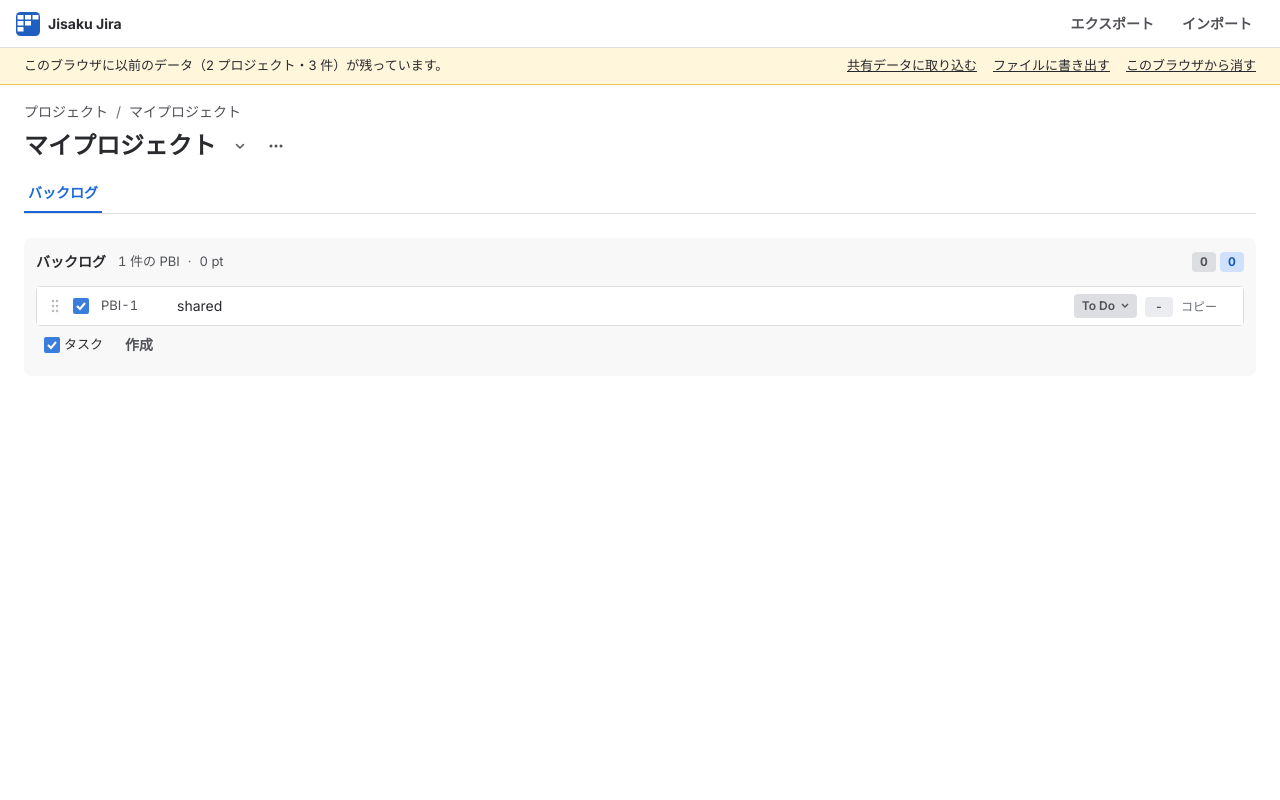
it: このブラウザに残った以前のデータ › 消すと確認後に以前のデータだけが消え、共有データは変わらない
Click the button "このブラウザから消す": (1191, 66) [1126,56,1256,76]
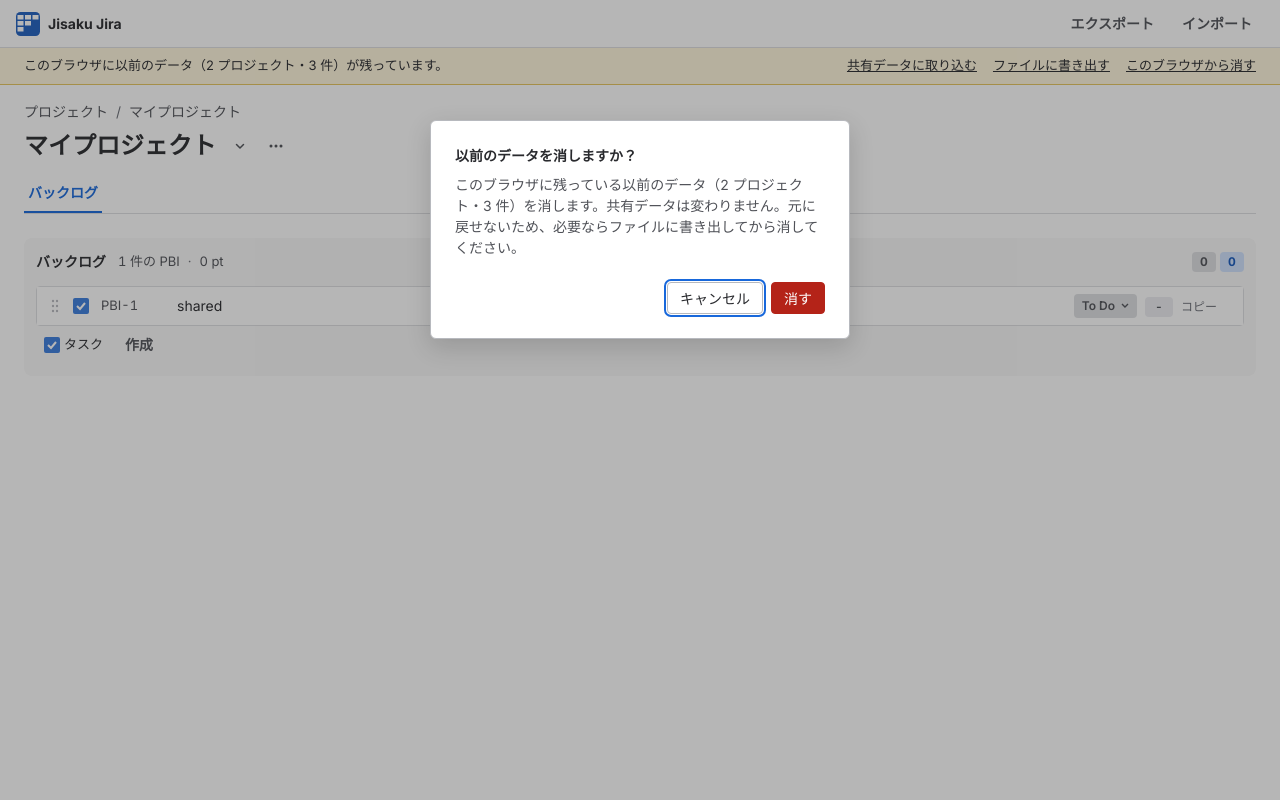
Click the button "消す": (798, 298) [771,282,825,314]
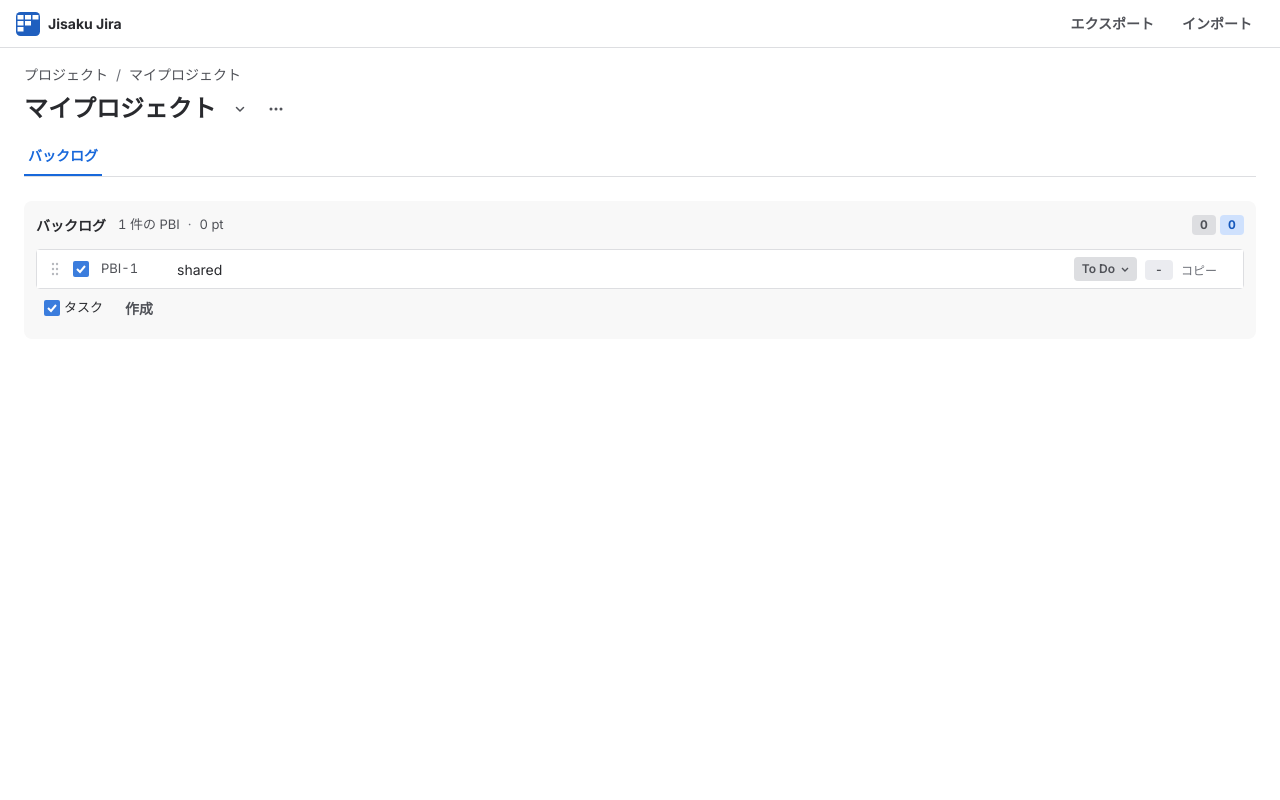
Now the element with test id "legacy-backlog" is gone
